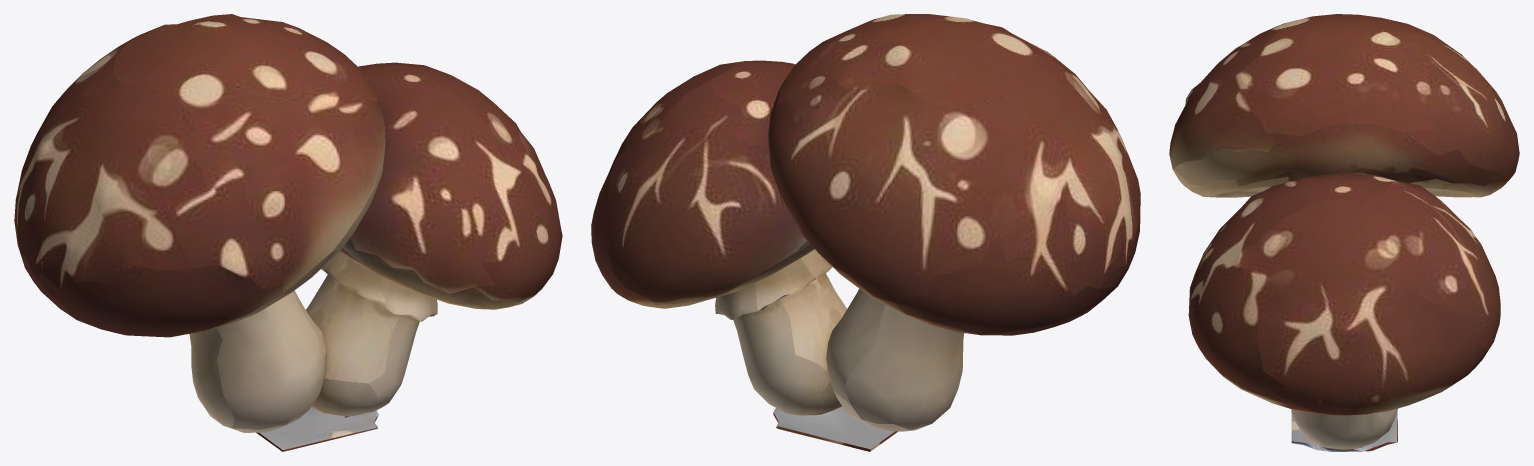
File: shiitake.glb
3 views of the same model, side by side, from view 1: azimuth 30°, elevation 25°; view 2: azimuth 150°, elevation 25°; view 3: azimuth 270°, elevation 25° (orthographic). The views are drawn at different scales.
Visible parts, largest first — view 1: shiitake; view 2: shiitake; view 3: shiitake.
Part boxes in pixels (x1=…): shiitake: x1=14, y1=14, x2=562, y2=451; shiitake: x1=591, y1=14, x2=1140, y2=451; shiitake: x1=1169, y1=14, x2=1519, y2=451.
Bounding box in the file's own units: 1 × 0.776 × 0.6852.
Materials: 1 (1 with a texture image).
